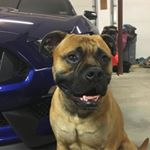puppy: (36, 26, 138, 150)
